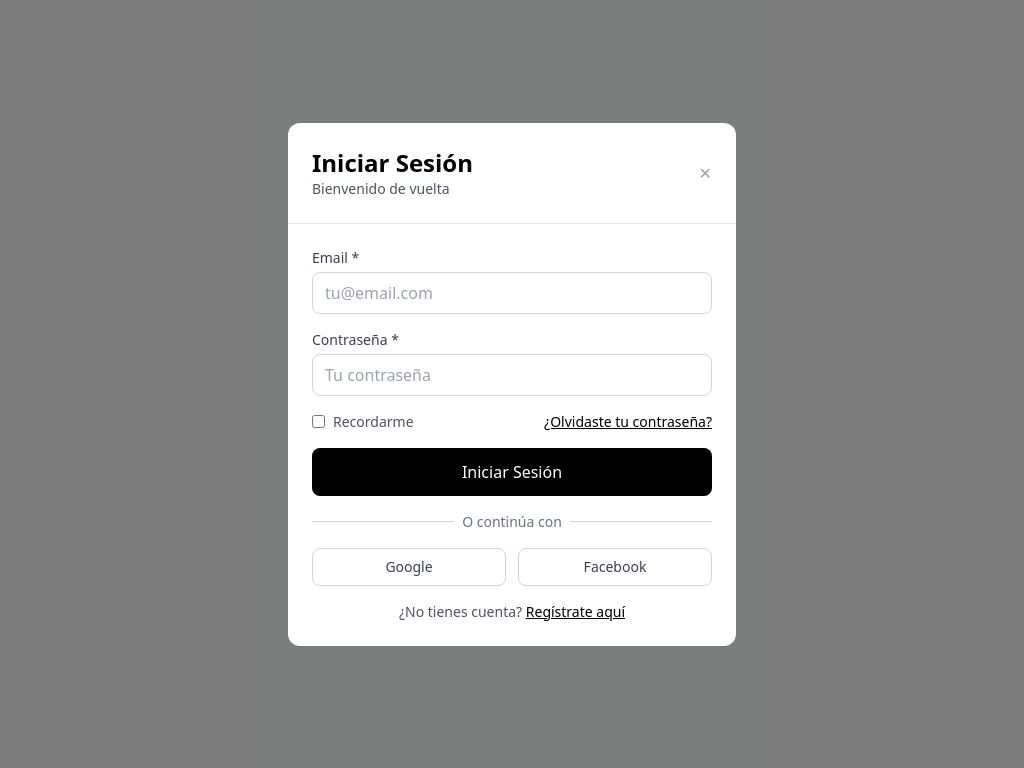
Test: LoginForm Component › clears email error when user starts typing
The image size is (1024, 768).
First, trigger email error
Click the button "Iniciar Sesión" at (512,472), box [312,448,712,496]
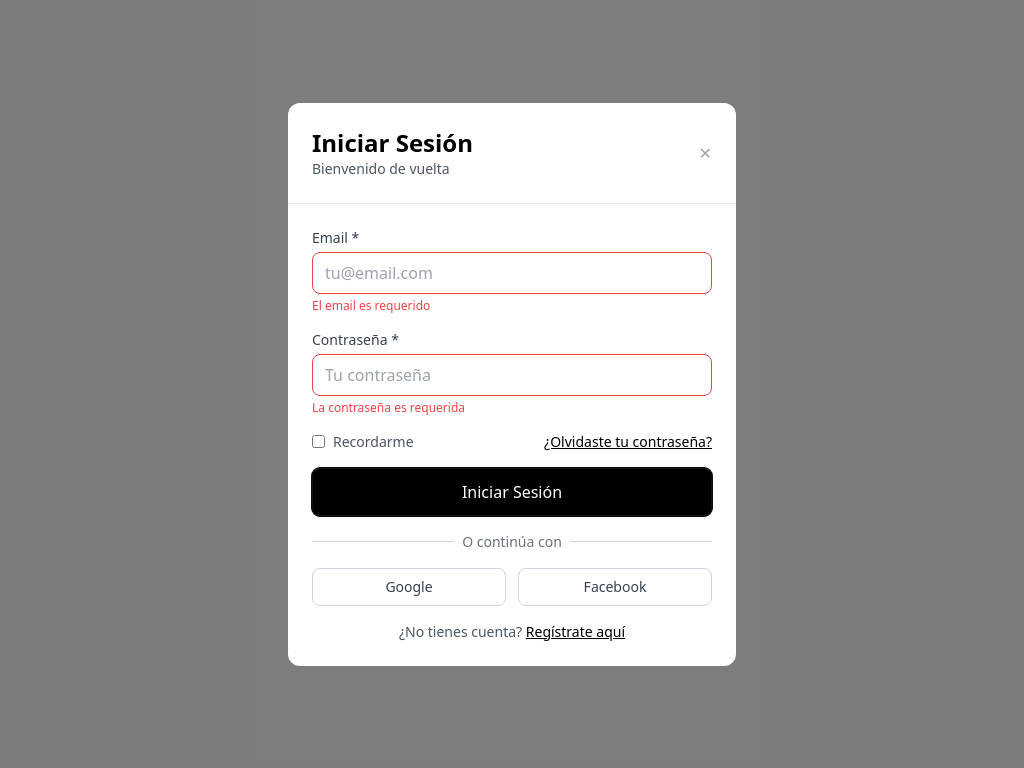
Expected: the text "El email es requerido" is shown, [312,296,430,314]
Then start typing in email field
Type "test" into the field labelled "Email *" at (512,272), box [312,252,712,294]
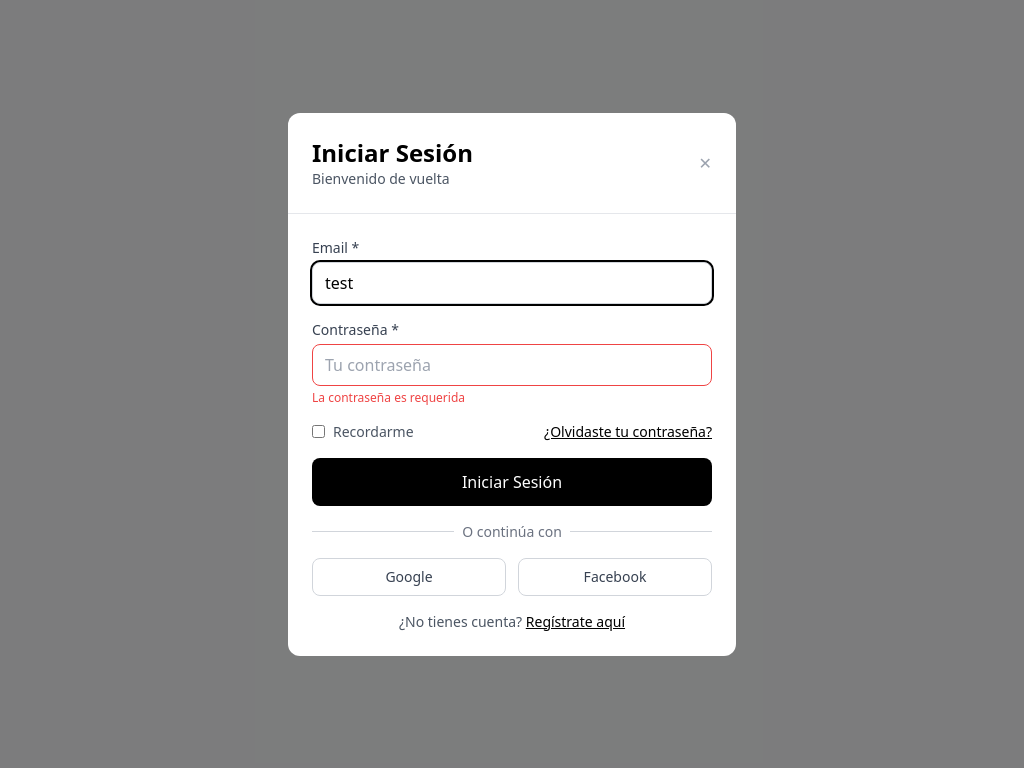
Expected: the text "El email es requerido" is gone
